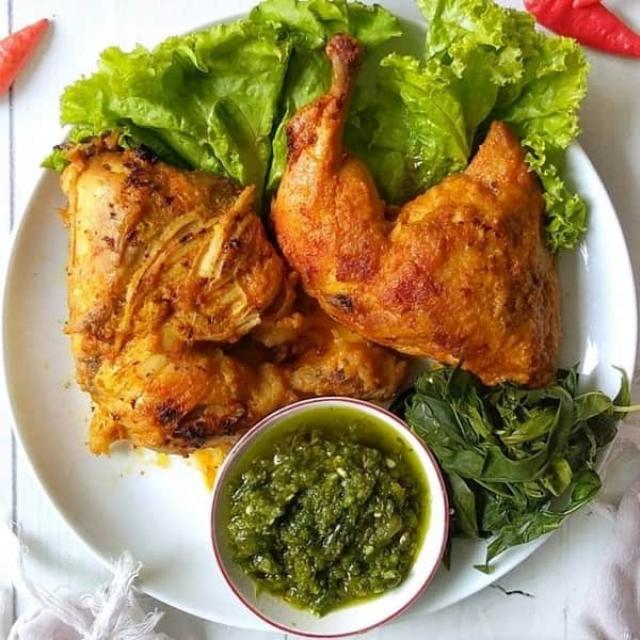Frango: (275, 38, 562, 390), (74, 130, 376, 458)
